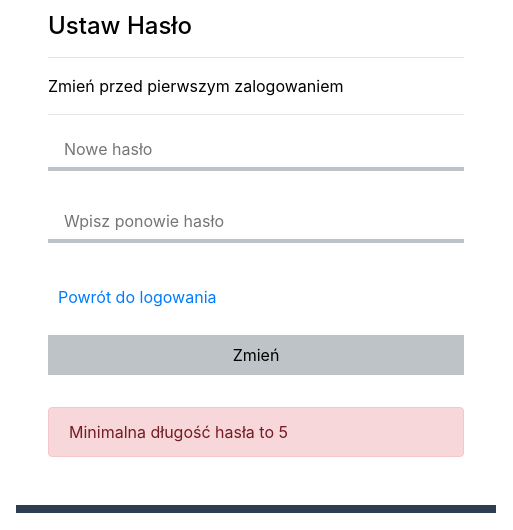
Test: test if password are diffrent
Type "123456" into the password field with placeholder "Nowe hasło" at (256, 151), box left=48, top=131, right=464, bottom=171
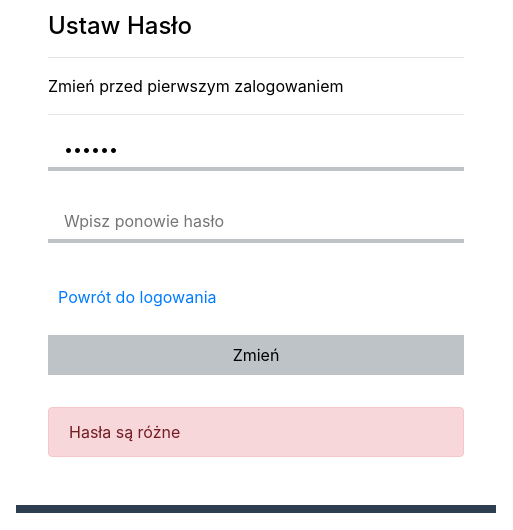
Check: the text "Hasła są różne" is shown, box left=48, top=407, right=464, bottom=457
Type "123456" into the password field with placeholder "Wpisz ponowie hasło" at (256, 223), box left=48, top=203, right=464, bottom=243
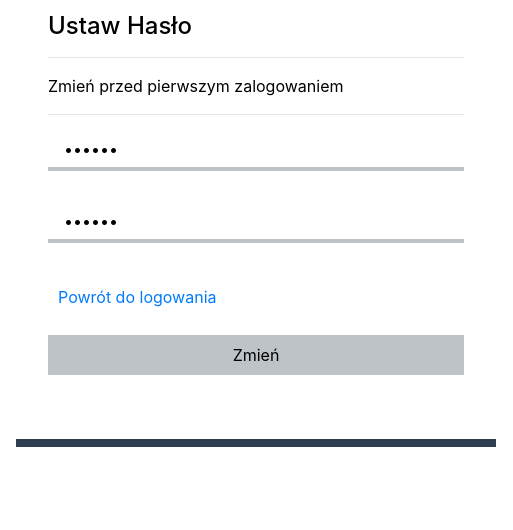
Check: the text "Hasła są różne" is gone
Type "1234567" into the 1st password field with placeholder "Nowe hasło" at (256, 151), box left=48, top=131, right=464, bottom=171
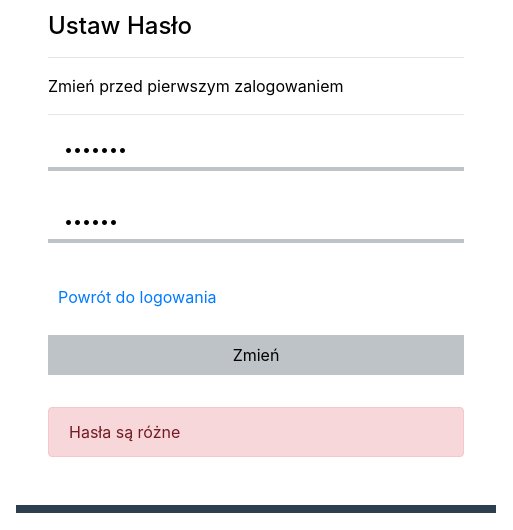
Check: the text "Hasła są różne" is shown, box left=48, top=407, right=464, bottom=457
Type "1234567" into the 2nd password field with placeholder "Wpisz ponowie hasło" at (256, 223), box left=48, top=203, right=464, bottom=243
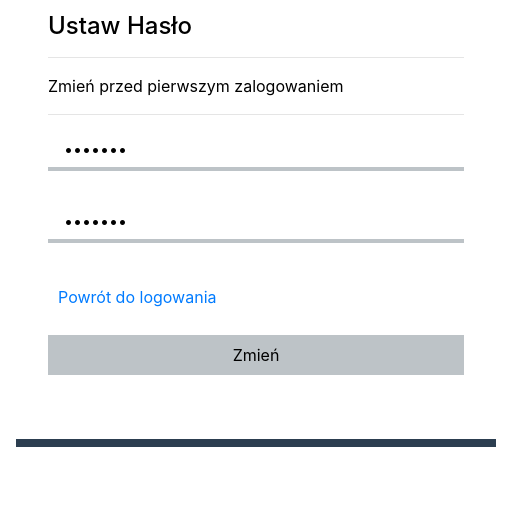
Check: the text "Hasła są różne" is gone
